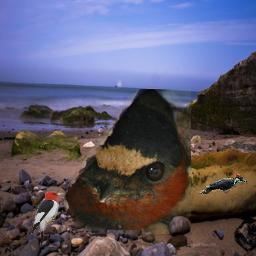Swallow: (64, 89, 191, 234)
Woodpecker: (30, 191, 64, 247), (199, 174, 247, 194)
